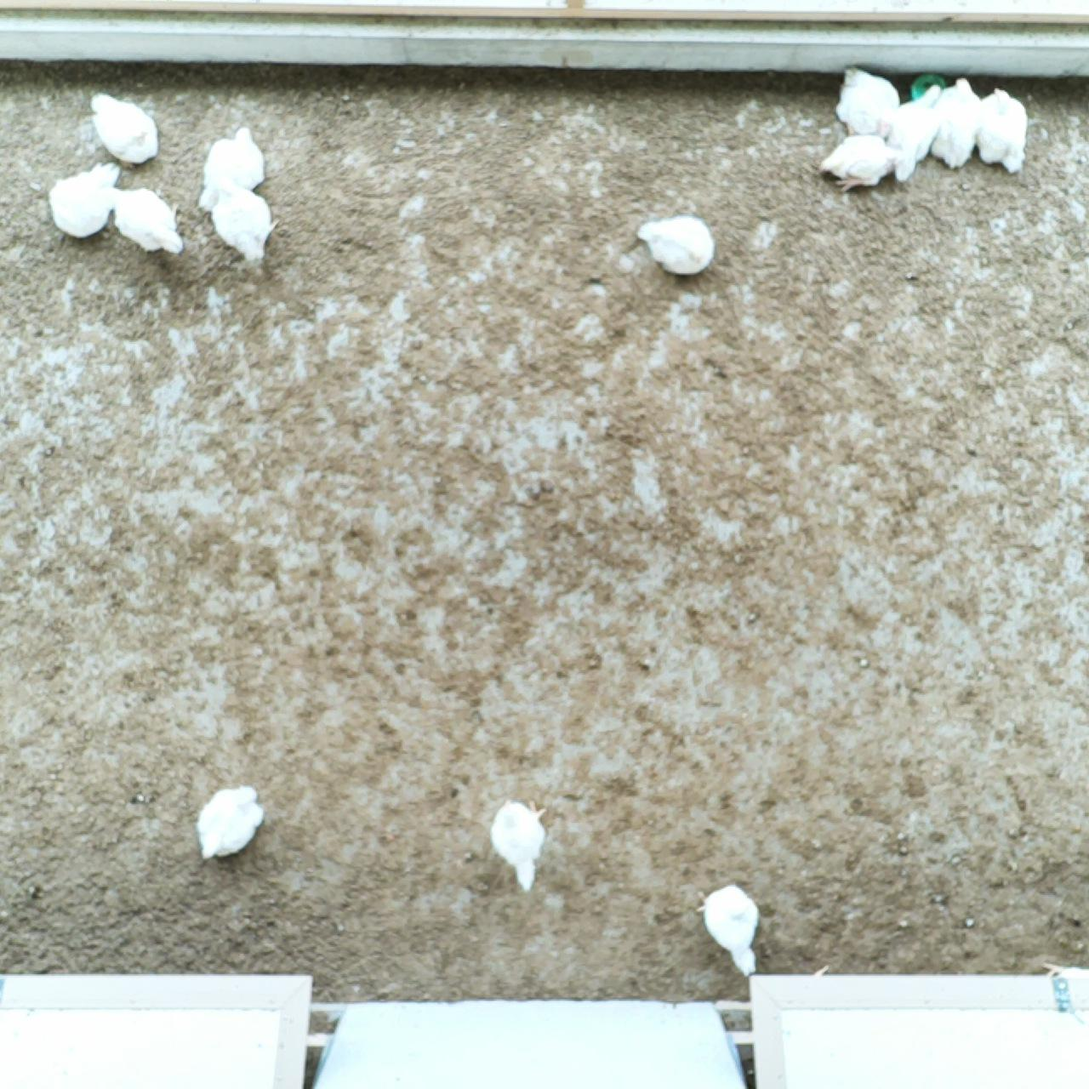chicken: (195, 124, 271, 217), (210, 172, 278, 271), (694, 882, 763, 979), (486, 797, 550, 896), (49, 159, 124, 242), (886, 80, 945, 185), (111, 183, 188, 262), (194, 781, 268, 861), (90, 93, 165, 170), (927, 74, 984, 172), (834, 63, 901, 144), (819, 129, 901, 194), (635, 213, 716, 276), (976, 87, 1033, 175)
